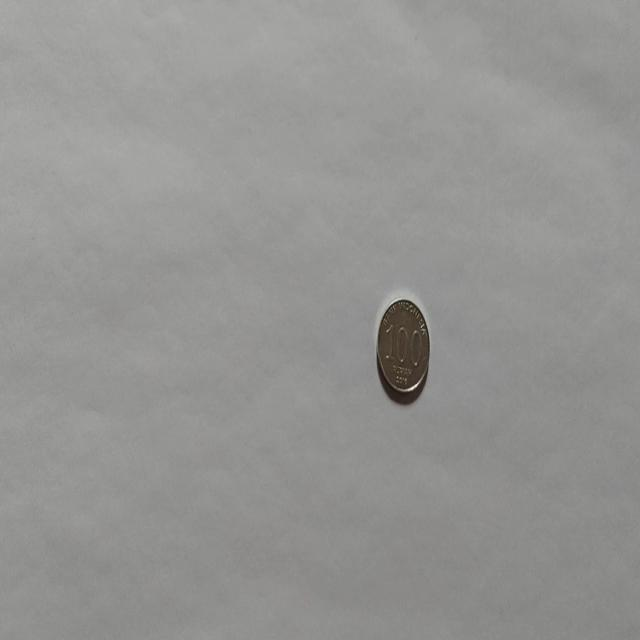seratus rupiah: (376, 296, 430, 396)
